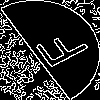F: (25, 25, 91, 76)
